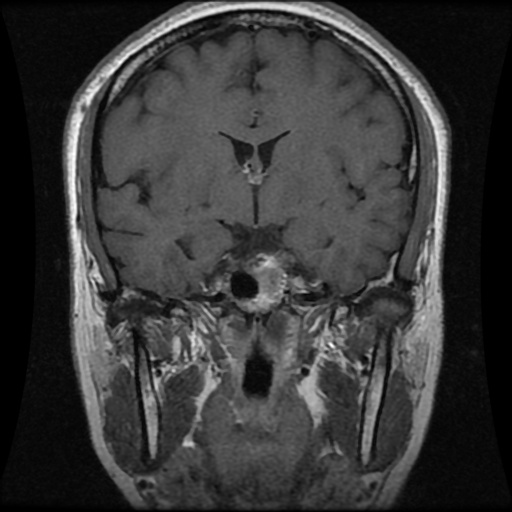pituitary: (207, 250, 286, 311)
